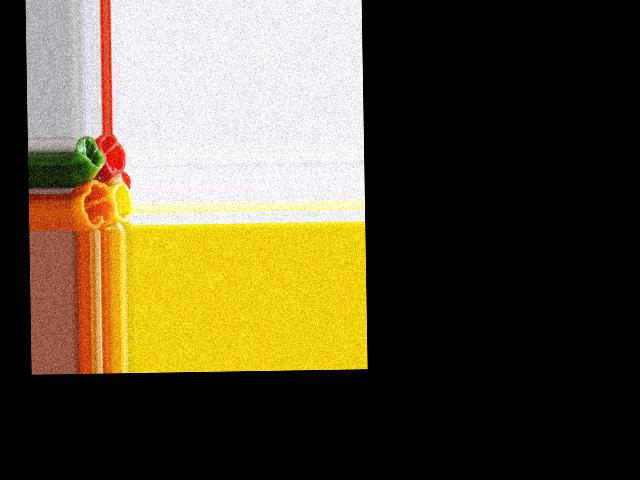bell_pepper: (100, 135, 127, 175)
